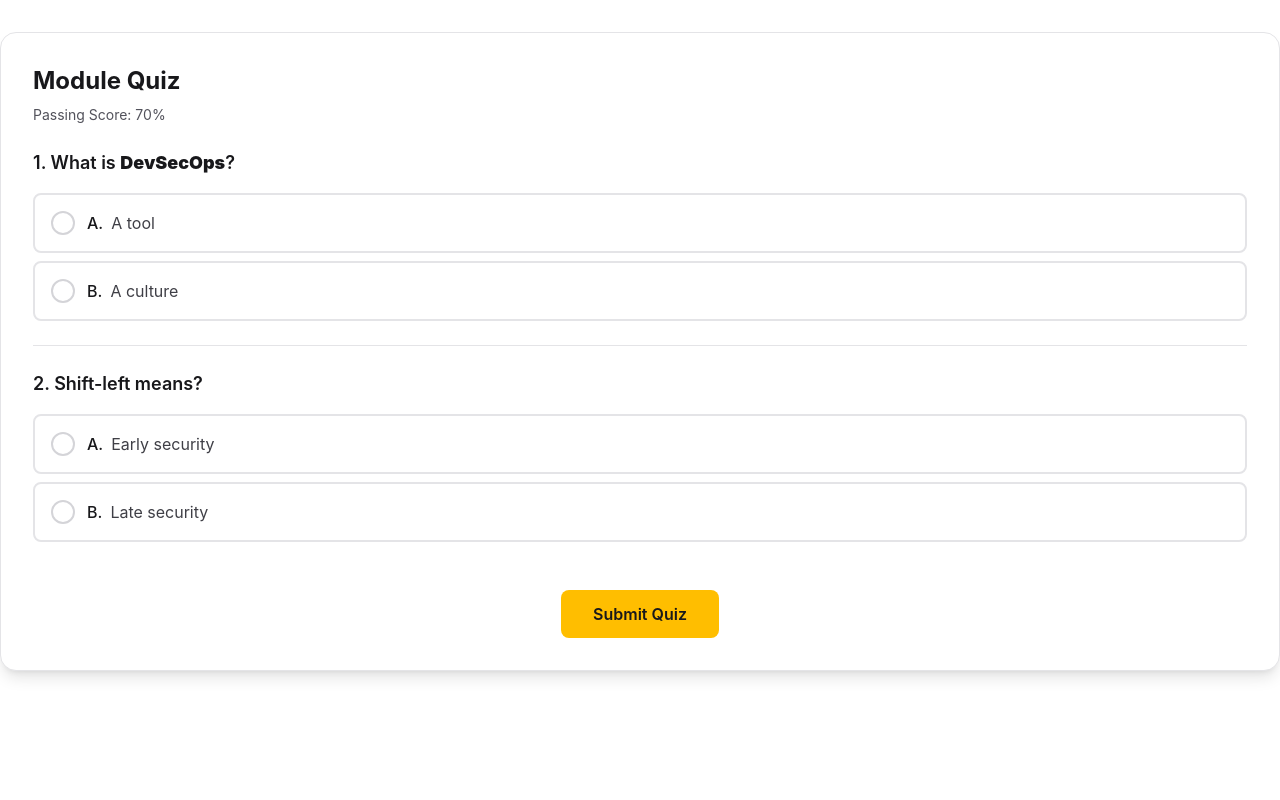
Scenario: shows a passed result after a successful submit
Click the text "A culture". click: (144, 291)
box: [110,281,178,301]
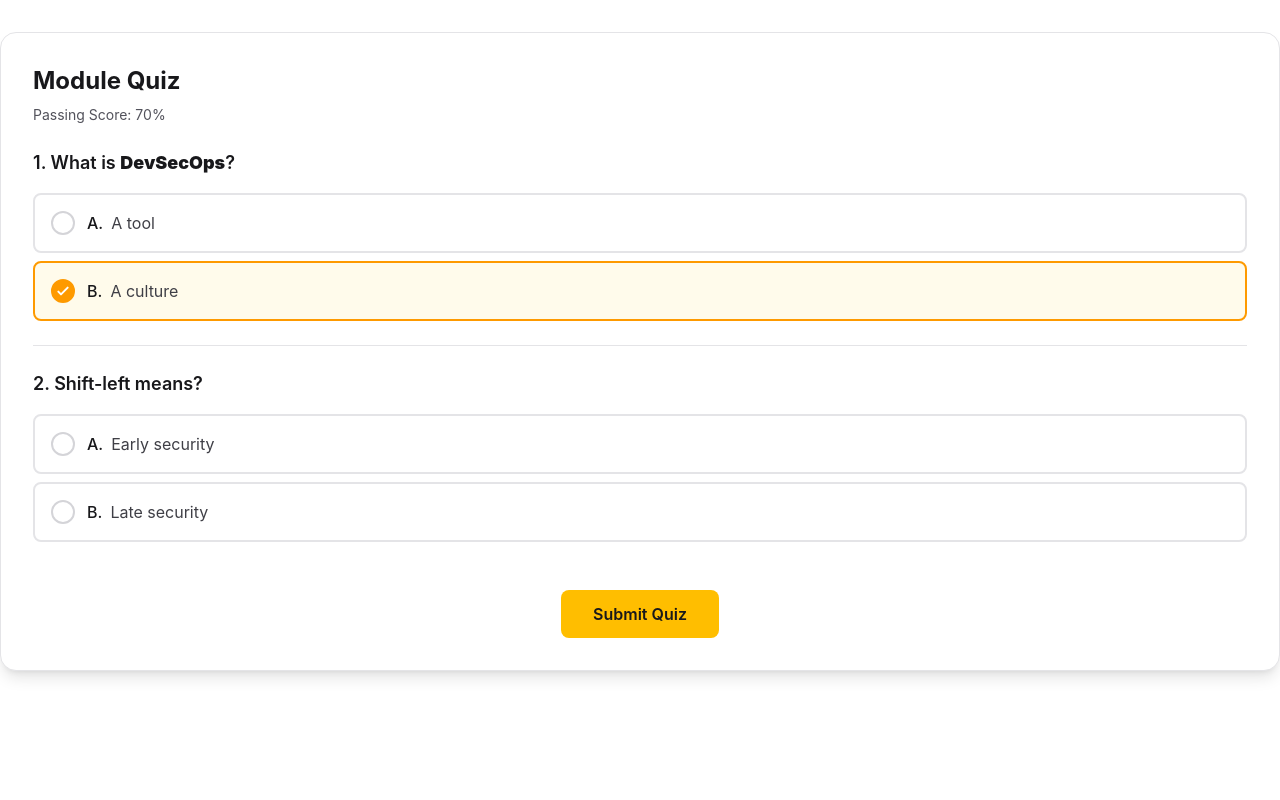
Click the text "Early security". click: (163, 444)
box: [111,434,214,454]
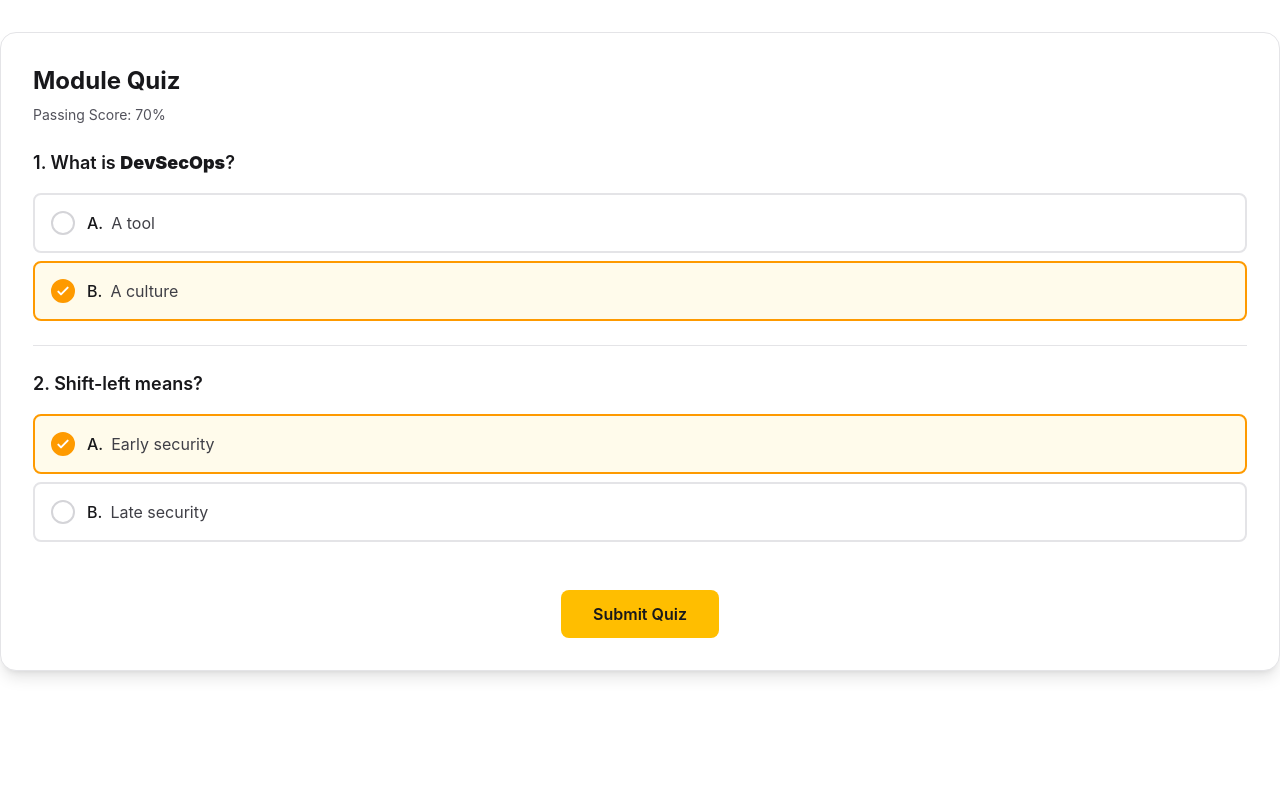
Click the button "Submit Quiz". click: (640, 614)
box: [561,590,719,638]
(page scrolled)
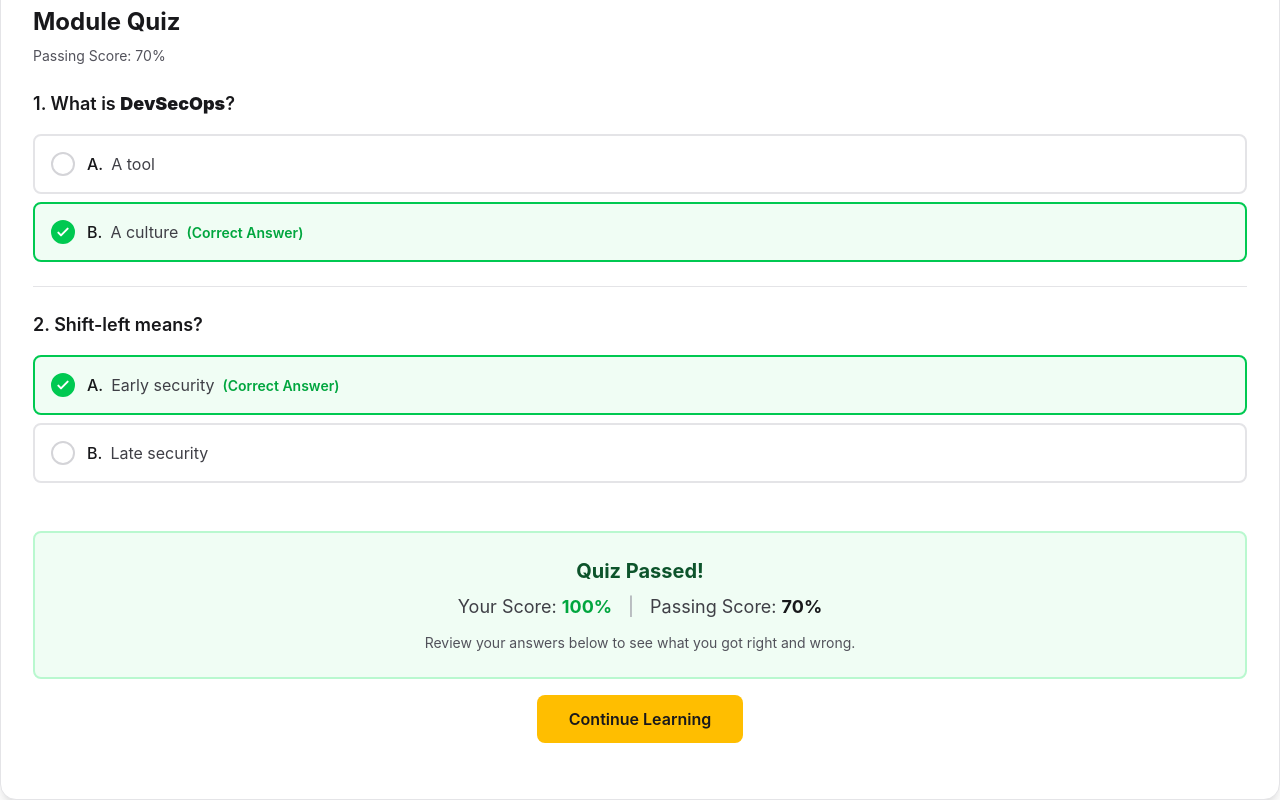
Expected: the heading "Quiz Passed!" is shown, [576,559,704,583]
Expected: the button "Continue Learning" is shown, [537,695,743,743]
